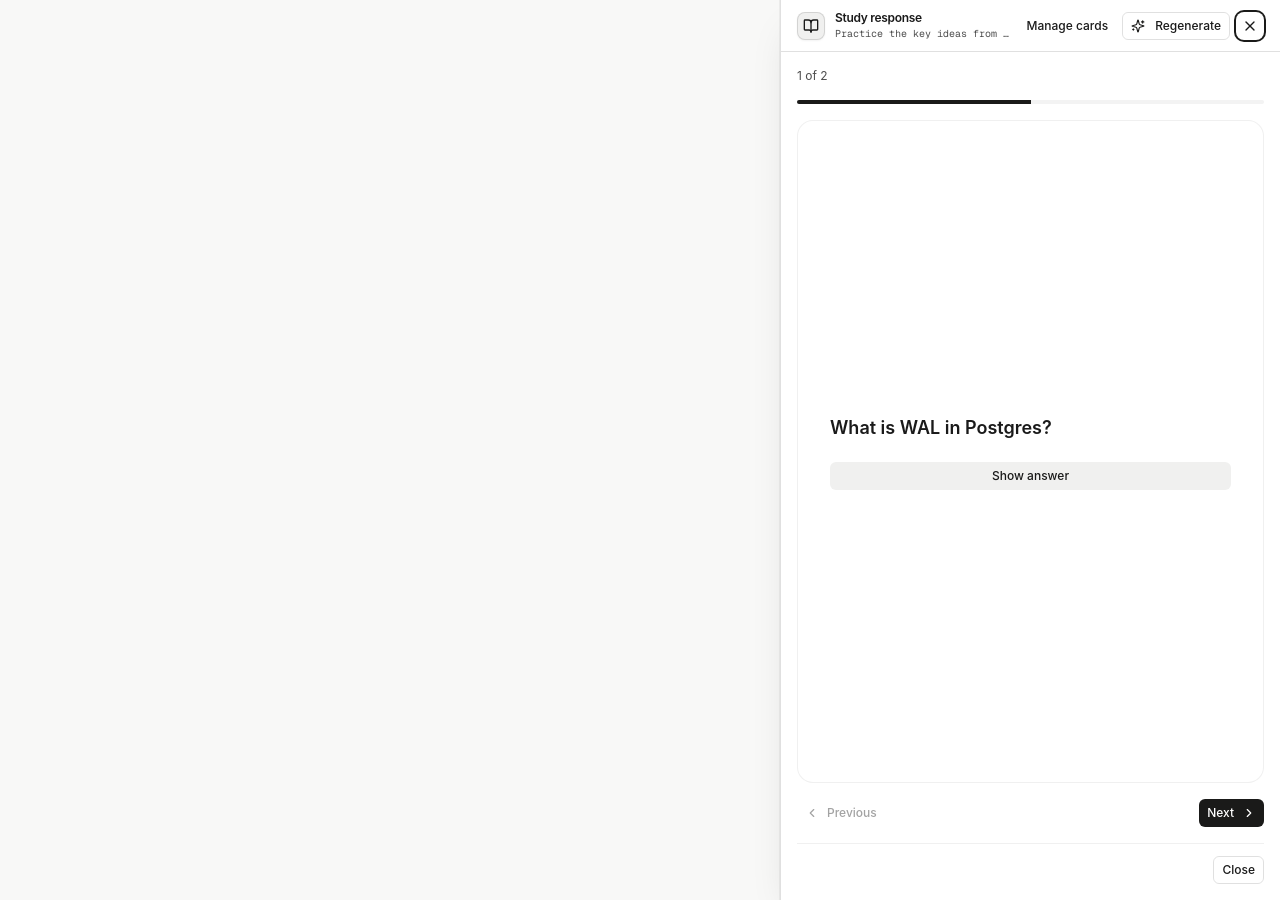
FlashcardModal › guides the learner through one card at a time with confidence feedback
Expected: the text "What is WAL in Postgres?" is shown, [830,417,1052,438]
Expected: the text "Why use WAL?" is not shown
Click the button "Show answer": x=1030, y=476 [830,462,1231,490]
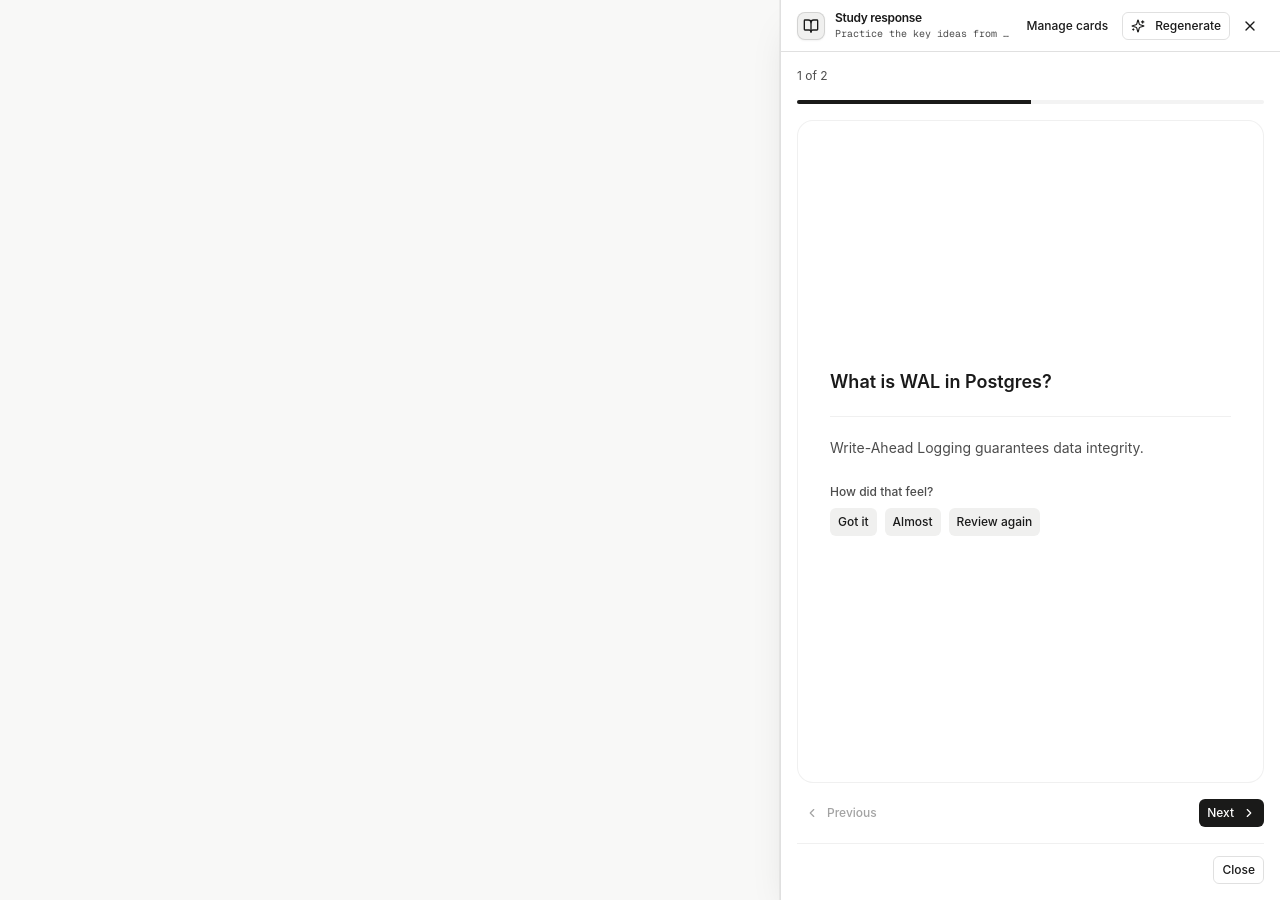
Now the text "Write-Ahead Logging guarantees data integrity." is shown, box [830,439,1144,456]
Click the button "Got it": x=853, y=522 [830,508,877,536]
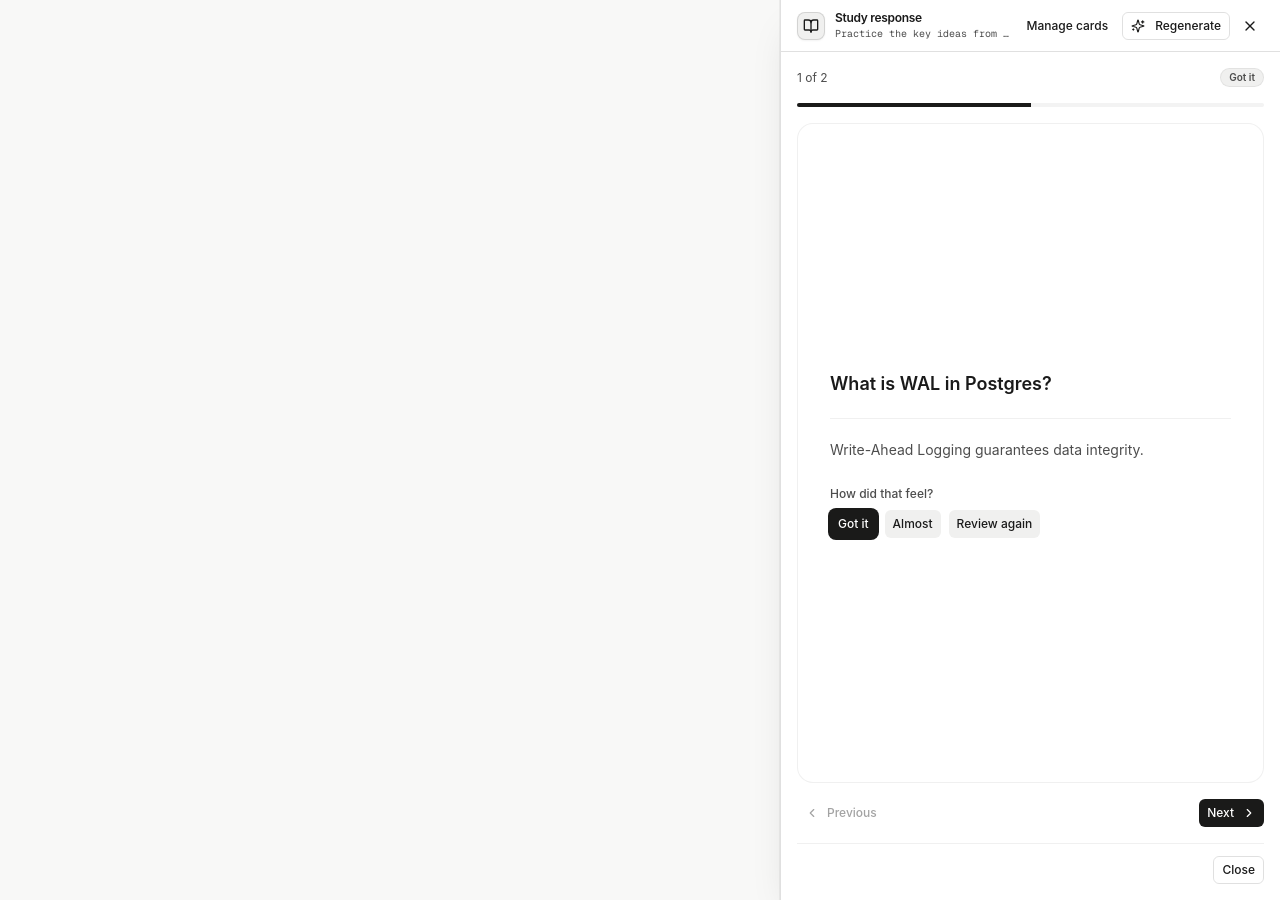
Click the button "Next": x=1232, y=813 [1199,799,1264,827]
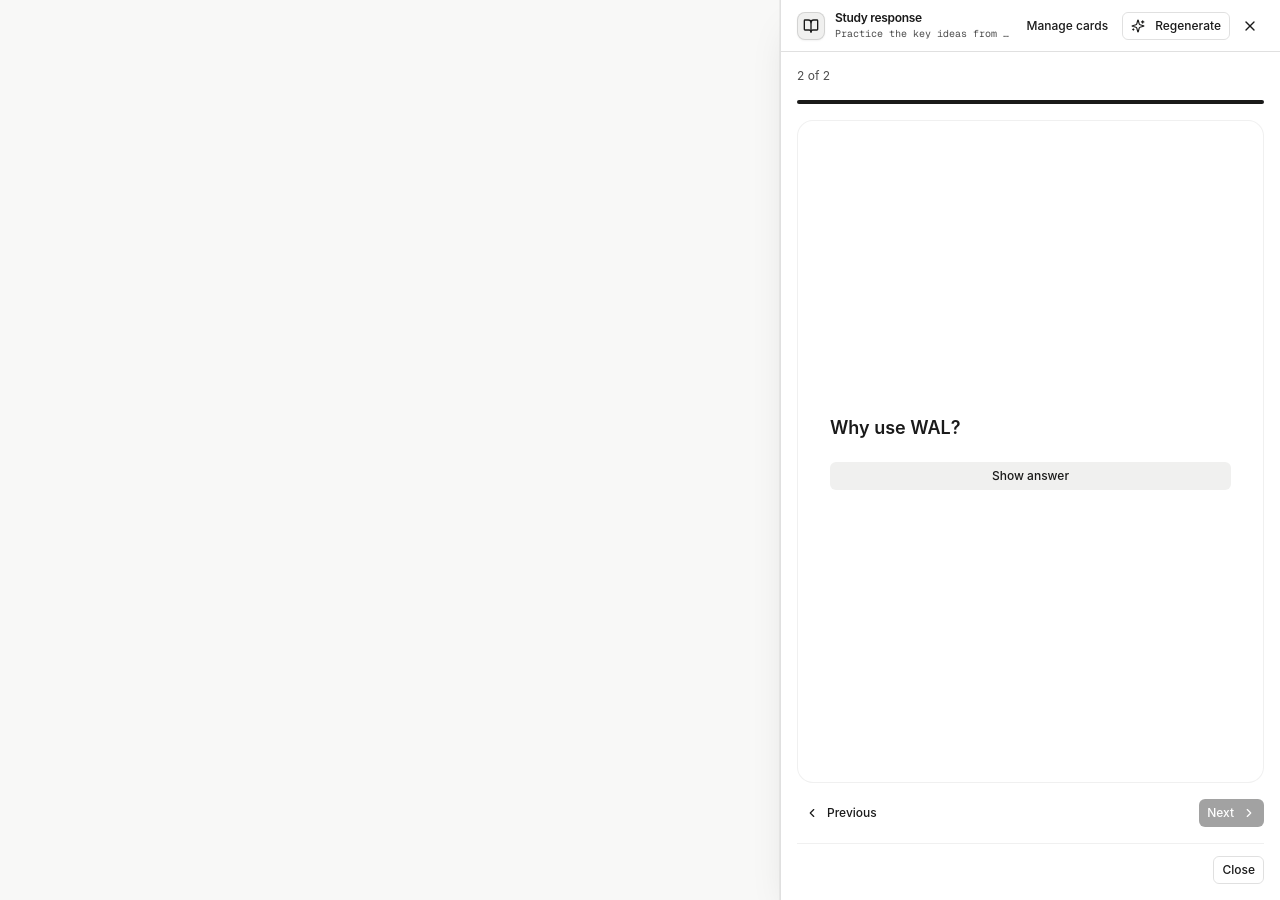
Now the text "Why use WAL?" is shown, box [830,417,960,438]
Now the text "What is WAL in Postgres?" is gone
Now the text "2 of 2" is shown, box [797,68,830,84]
